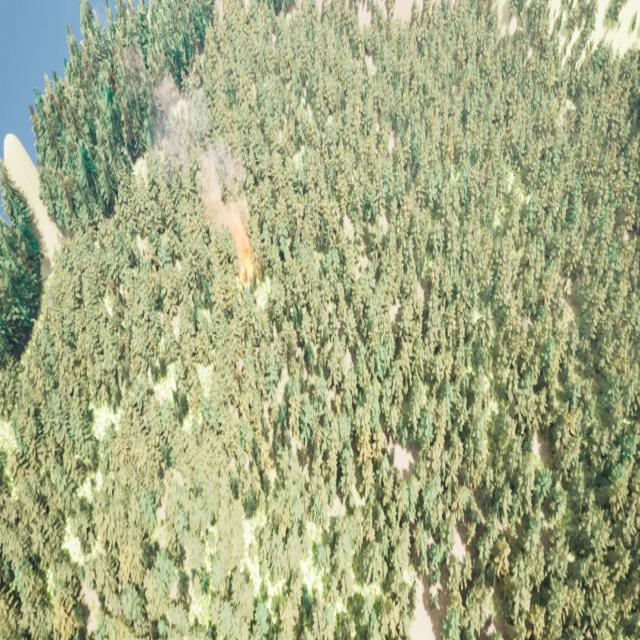fire: (233, 231, 261, 280)
smoke: (146, 73, 248, 239)
